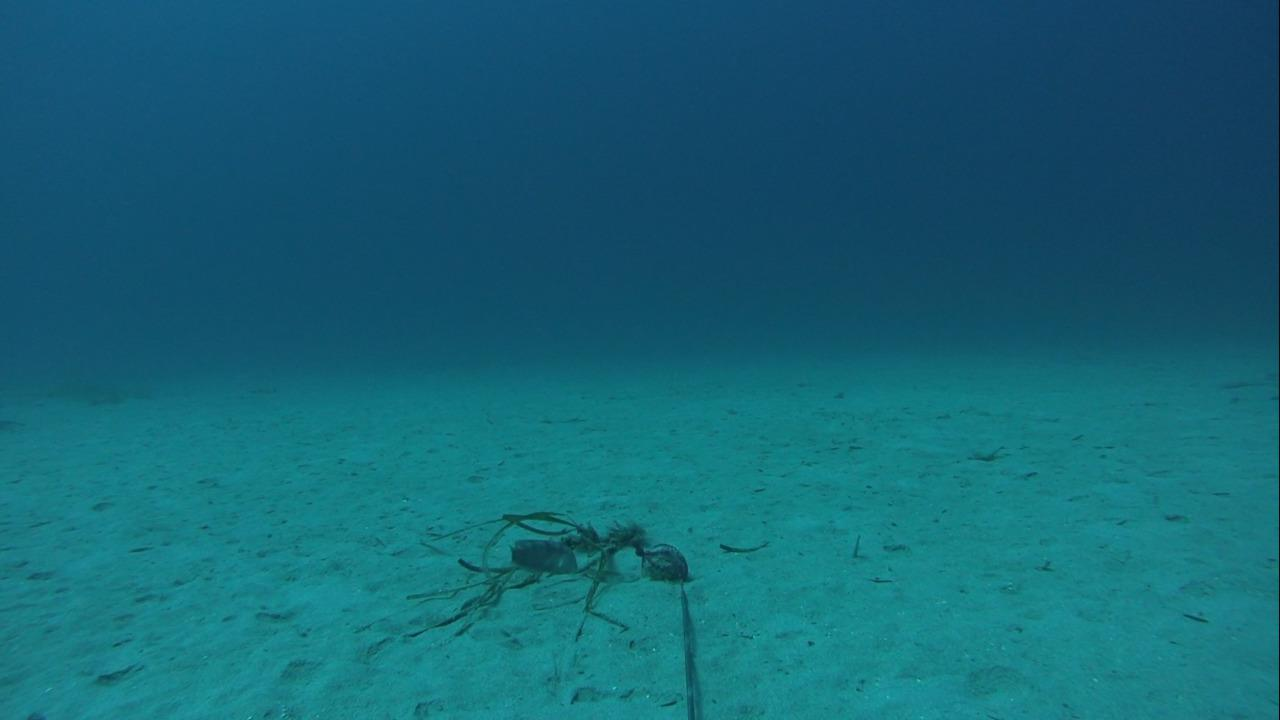raor: (500, 533, 582, 579)
